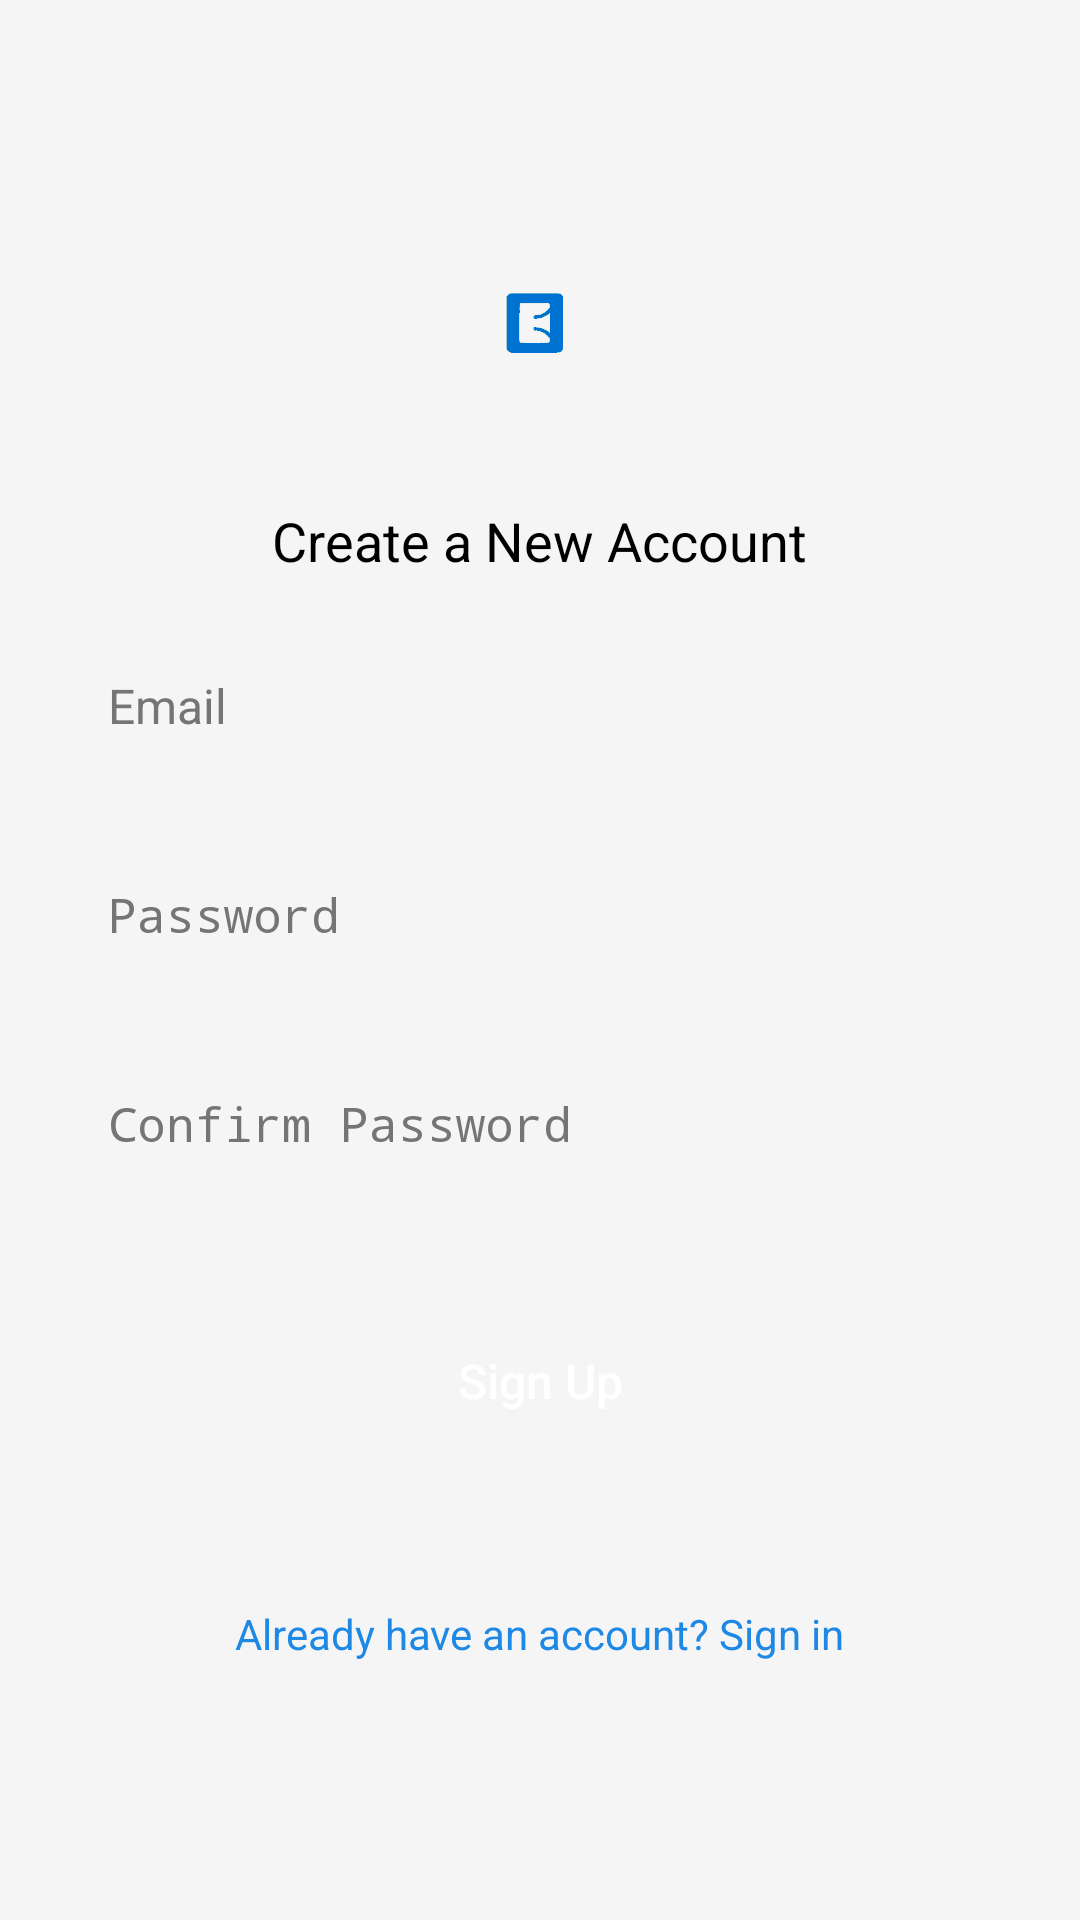

Named icons in this screenshot (1080 x 1920) and their bounding boxes, box(x1, y1, x2, y2):
logu: box(506, 293, 563, 353)
